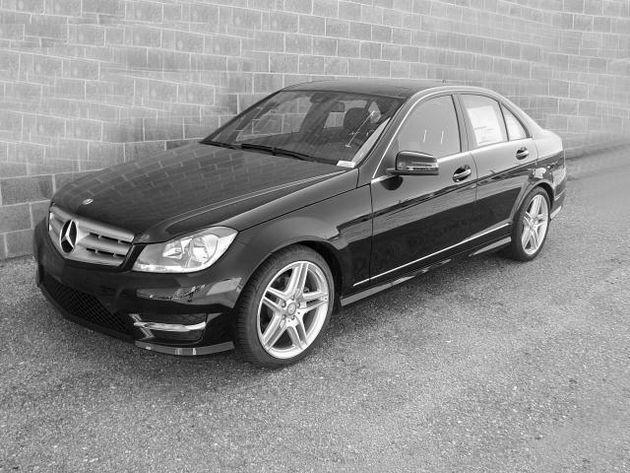car: (36, 84, 567, 371)
